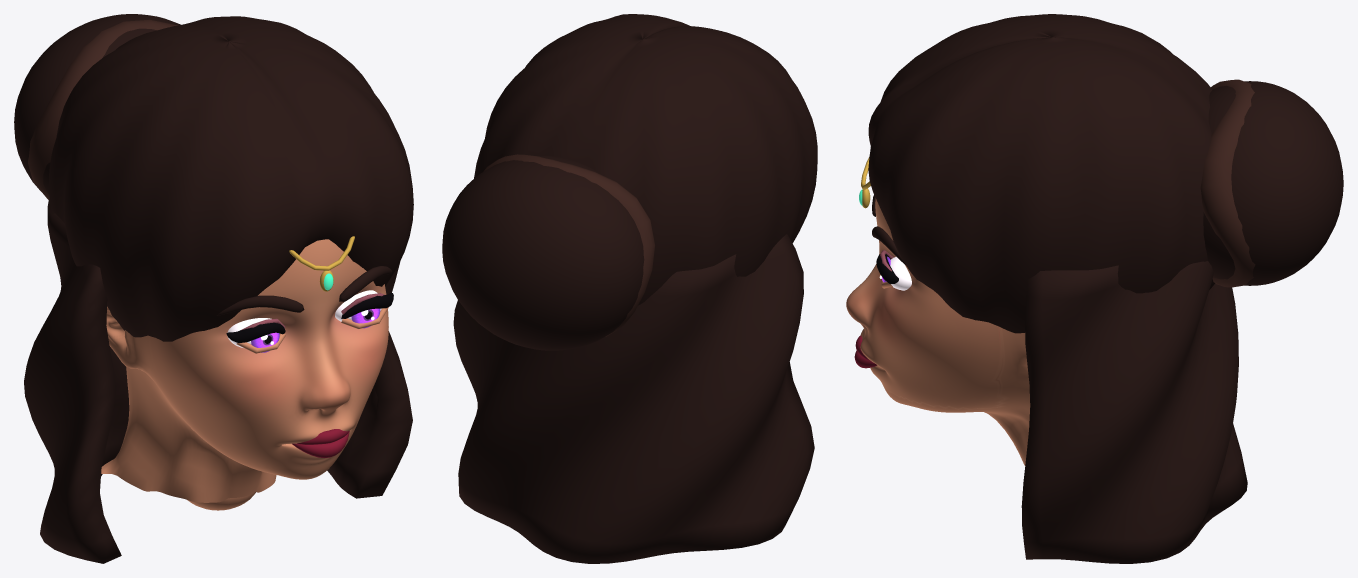
The model's file is char_hr_veronika_head.glb.
3 views of the same model, side by side, from view 1: azimuth 30°, elevation 25°; view 2: azimuth 150°, elevation 25°; view 3: azimuth 270°, elevation 25° (orthographic). The views are drawn at different scales.
Parts seen in each view (by area): view 1: char_hr_veronika_head; view 2: char_hr_veronika_head; view 3: char_hr_veronika_head.
Part boxes in pixels (x1,y1,x2,y2): char_hr_veronika_head: (14, 14, 413, 563); char_hr_veronika_head: (442, 14, 817, 563); char_hr_veronika_head: (846, 14, 1343, 563).
Bounding box in the file's own units: 0.2201 × 0.2918 × 0.2869.
Materials: 11 (2 with a texture image).
